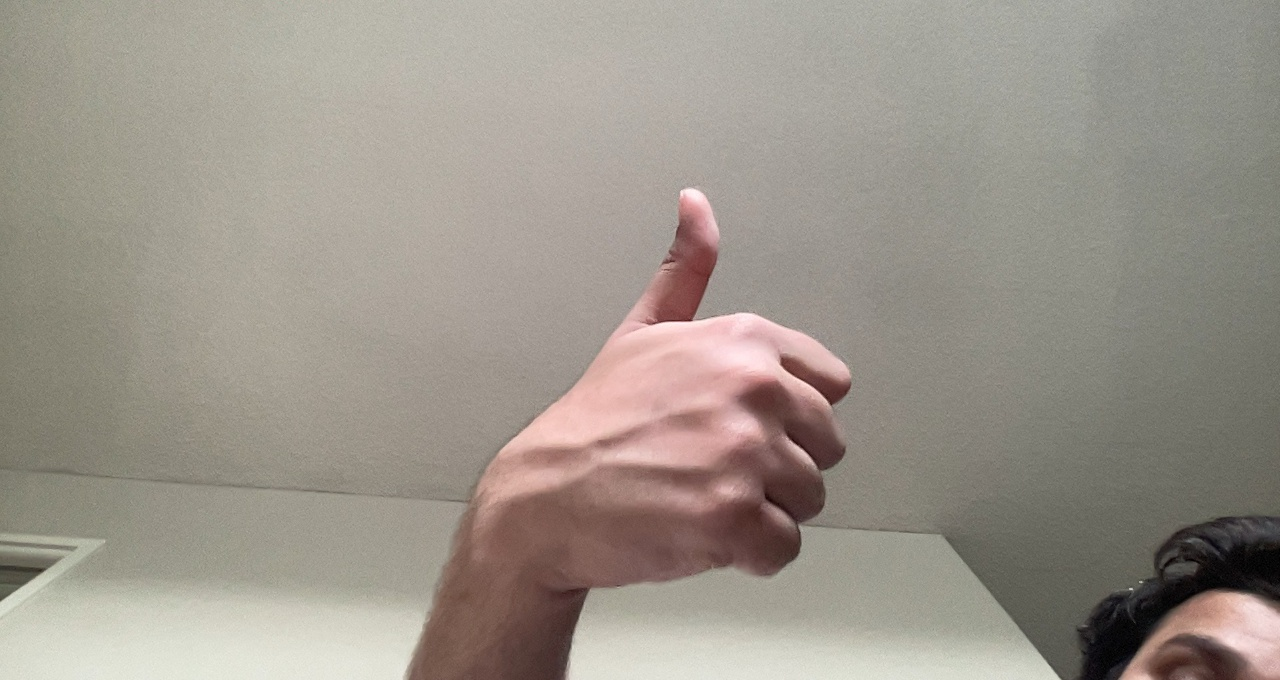thumbsup: (531, 176, 874, 595)
